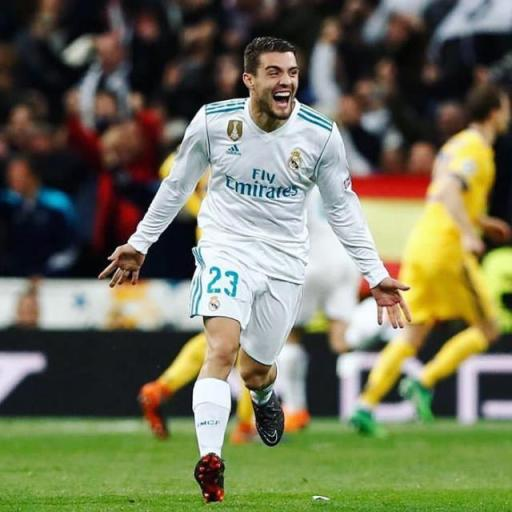Adidas: (223, 142, 243, 157)
Emirates: (224, 165, 304, 203)
